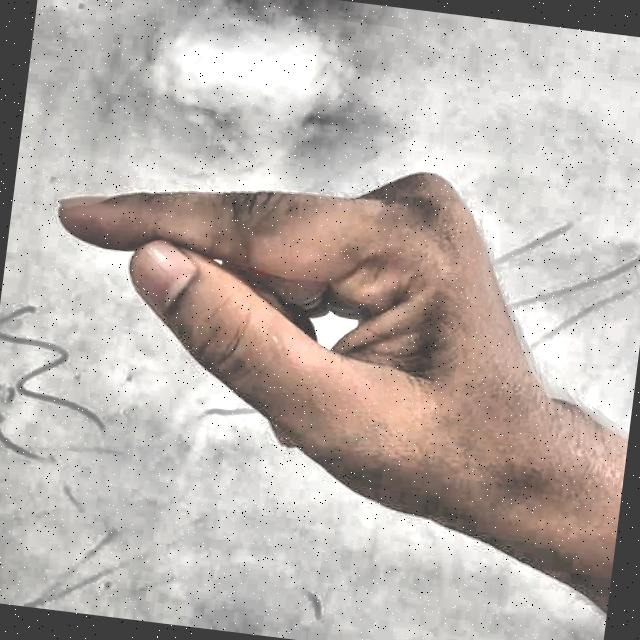Tha: (2, 105, 640, 625)
